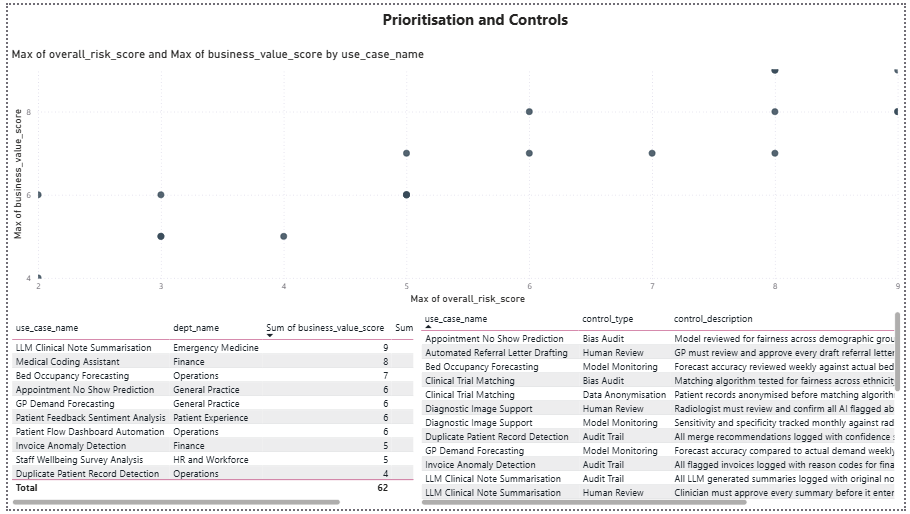

This screenshot's page, from the dashboard's own definition file:
{"tool":"powerbi","page":{"name":"Prioritisation and Controls","canvas":[1280,720],"ordinal":2},"visuals":[{"type":"scatterChart","fields":{"X":["Max(risk_assessments.overall_risk_score)"],"Y":["Max(ai_use_cases.business_value_score)"],"Category":["ai_use_cases.use_case_name"]},"box":[0,60,1280,372.9],"z":0},{"type":"tableEx","fields":{"Values":["ai_use_cases.use_case_name","governance_controls.control_type","governance_controls.control_description","governance_controls.implementation_status"]},"box":[584.3,432.9,695.7,287.1],"z":1000},{"type":"tableEx","fields":{"Values":["ai_use_cases.use_case_name","departments.dept_name","Sum(ai_use_cases.business_value_score)","Sum(risk_assessments.overall_risk_score)"]},"box":[0,445.7,584.3,274.3],"z":2000},{"type":"textbox","box":[530,0,280,38.6],"z":2001}]}

Visuals, with their boxes in screenshot pixels (x1, y1, x2, y2), scaled from the page's 1280x720 canvas onto the 910x514 screenshot:
scatterChart - Max(risk_assessments.overall_risk_score) x Max(ai_use_cases.business_value_score): x1=0, y1=43, x2=909, y2=309
tableEx - ai_use_cases.use_case_name x governance_controls.control_type: x1=415, y1=309, x2=909, y2=513
tableEx - ai_use_cases.use_case_name x departments.dept_name: x1=0, y1=318, x2=415, y2=513
textbox: x1=377, y1=0, x2=576, y2=28
